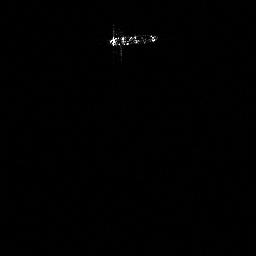ship: (110, 34, 156, 47)
